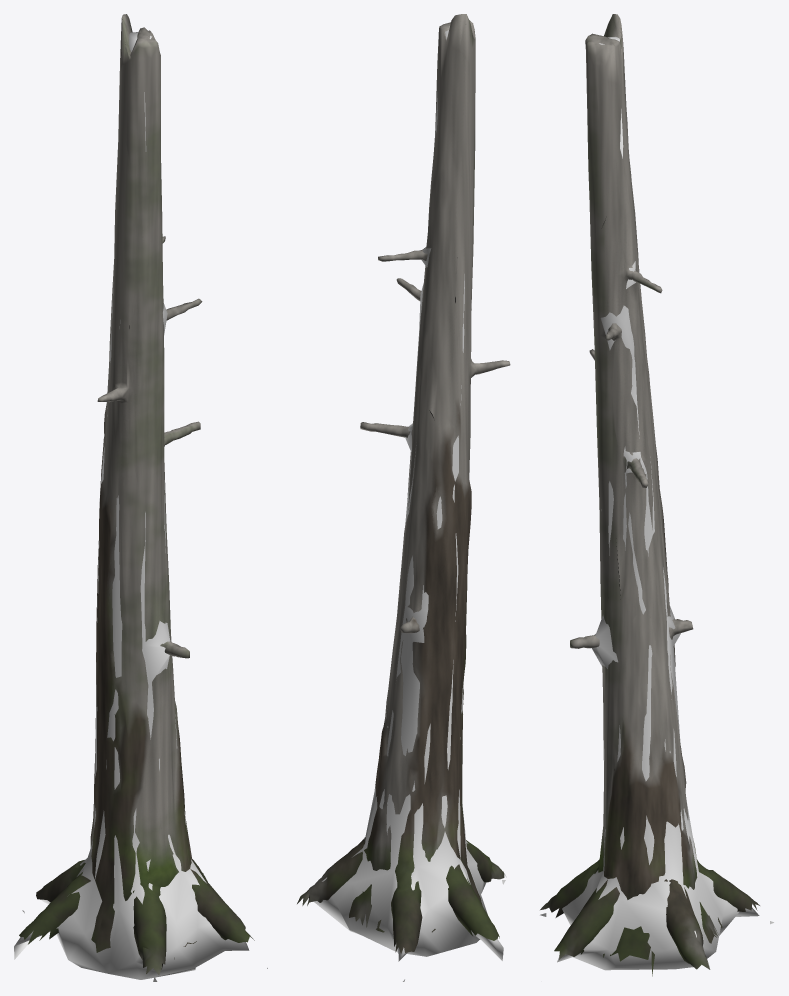
File: PROP_P2_DeadSnag_A.fbx
3 renders of one model, left to right at view 1: azimuth 30°, elevation 25°; view 2: azimuth 150°, elevation 25°; view 3: azimuth 270°, elevation 25°, orthographic. The views are drawn at different scales.
Parts seen in each view (by area): view 1: PROP_P2_DeadSnag_A_LOD0, PROP_P2_DeadSnag_A_COL; view 2: PROP_P2_DeadSnag_A_LOD0, PROP_P2_DeadSnag_A_COL; view 3: PROP_P2_DeadSnag_A_LOD0, PROP_P2_DeadSnag_A_COL.
Boxes of the visible parts, bbox=[...] form: PROP_P2_DeadSnag_A_LOD0: bbox=[19, 14, 254, 975]; PROP_P2_DeadSnag_A_COL: bbox=[14, 32, 267, 981]; PROP_P2_DeadSnag_A_LOD0: bbox=[297, 14, 510, 953]; PROP_P2_DeadSnag_A_COL: bbox=[314, 30, 505, 981]; PROP_P2_DeadSnag_A_LOD0: bbox=[540, 14, 759, 976]; PROP_P2_DeadSnag_A_COL: bbox=[540, 37, 773, 970].
Size of what is drawn, in the model's own units: 2.2 by 9.9 by 2.29.
